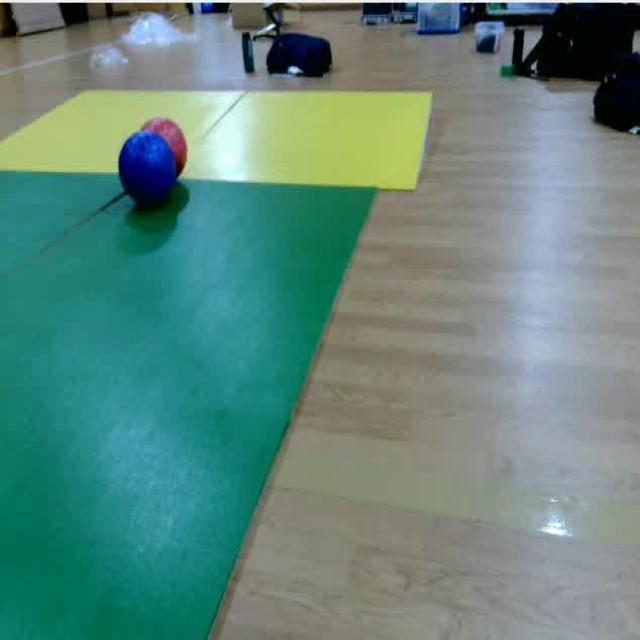blue_ball: (116, 139, 170, 211)
red_ball: (163, 114, 190, 144)
